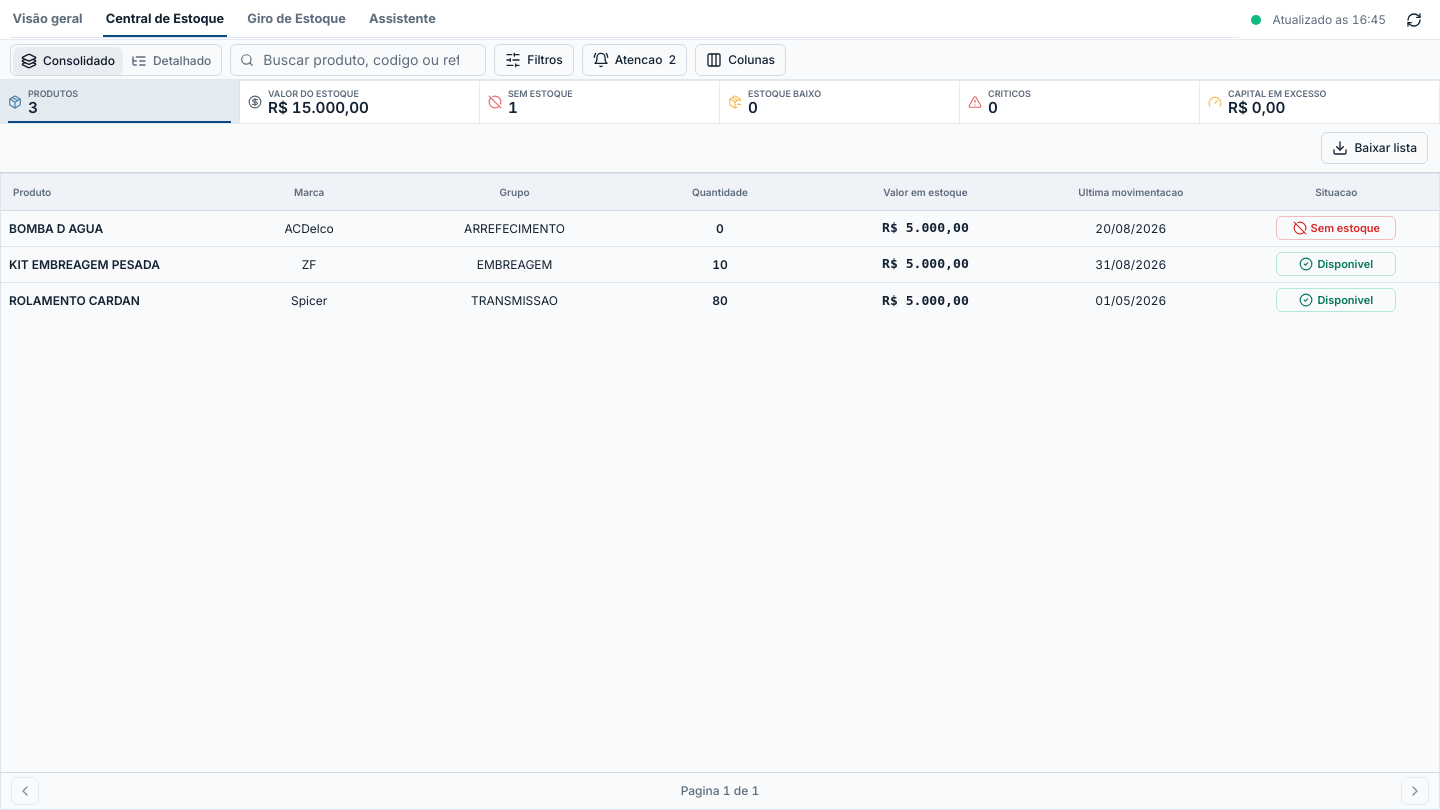
it: EstoquePage › transforma o Giro em mesa operacional sem compatibilidade temporaria de scroll
Later steps or results of the test are not shown.
Click the tab "Giro de Estoque". click: (297, 19)
box: top-left (245, 1), bottom-right (348, 37)
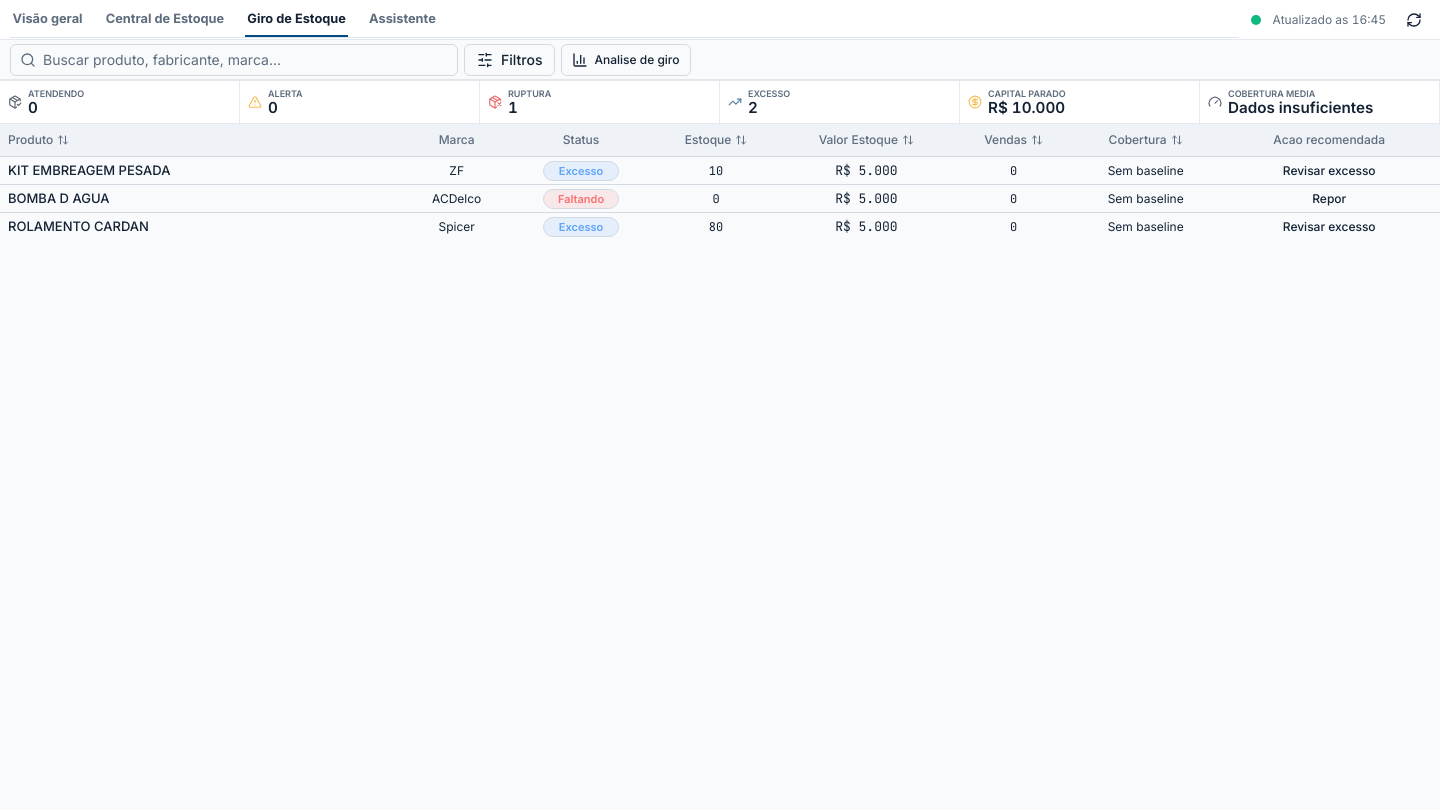
Expected: the element named "Indicadores de estoque" is shown, top-left (0, 80), bottom-right (1439, 124)
Now the element named "Comandos do giro de estoque" is shown, box top-left (0, 40), bottom-right (1439, 80)
Now the element named "Dados do giro de estoque" is shown, box top-left (0, 124), bottom-right (1439, 237)
